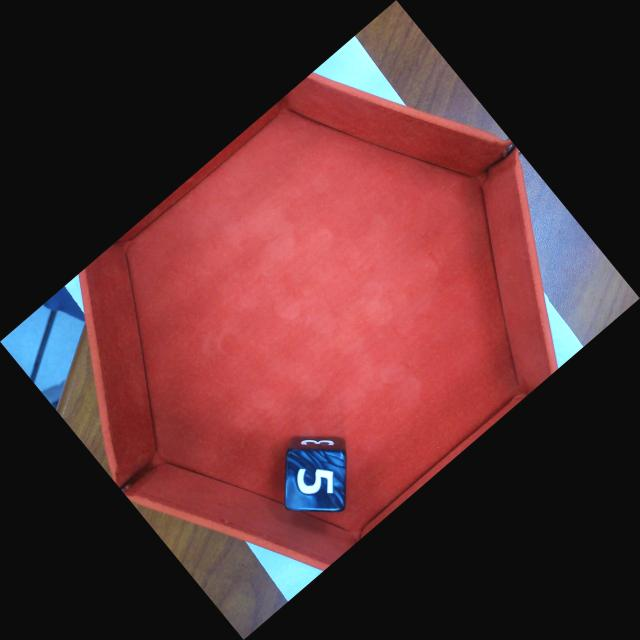dice: (286, 450, 344, 511)
